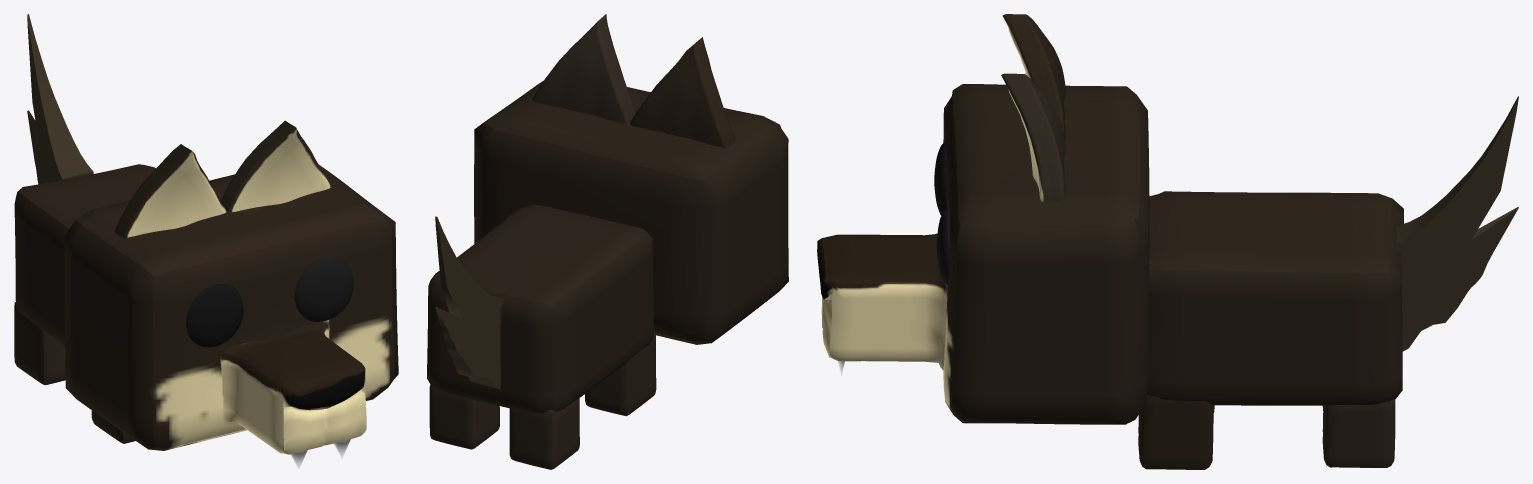
The model's file is principalNV4.fbx.
The picture shows the model from 3 angles, left to right: view 1: azimuth 30°, elevation 25°; view 2: azimuth 150°, elevation 25°; view 3: azimuth 270°, elevation 25°; orthographic projection. The views are drawn at different scales.
Parts seen in each view (by area): view 1: head, body, left_eye; view 2: head, body; view 3: head, body, left_eye.
Boxes of the visible parts, left/top/right/bottom form: head: left=64, top=120, right=398, bottom=469; body: left=14, top=14, right=155, bottom=443; left_eye: left=295, top=257, right=353, bottom=321; head: left=474, top=14, right=788, bottom=344; body: left=427, top=204, right=656, bottom=469; head: left=817, top=14, right=1149, bottom=424; body: left=1138, top=96, right=1518, bottom=469; left_eye: left=936, top=206, right=949, bottom=284.
Size of the model in its own units: 2.83 by 3.48 by 5.69.
